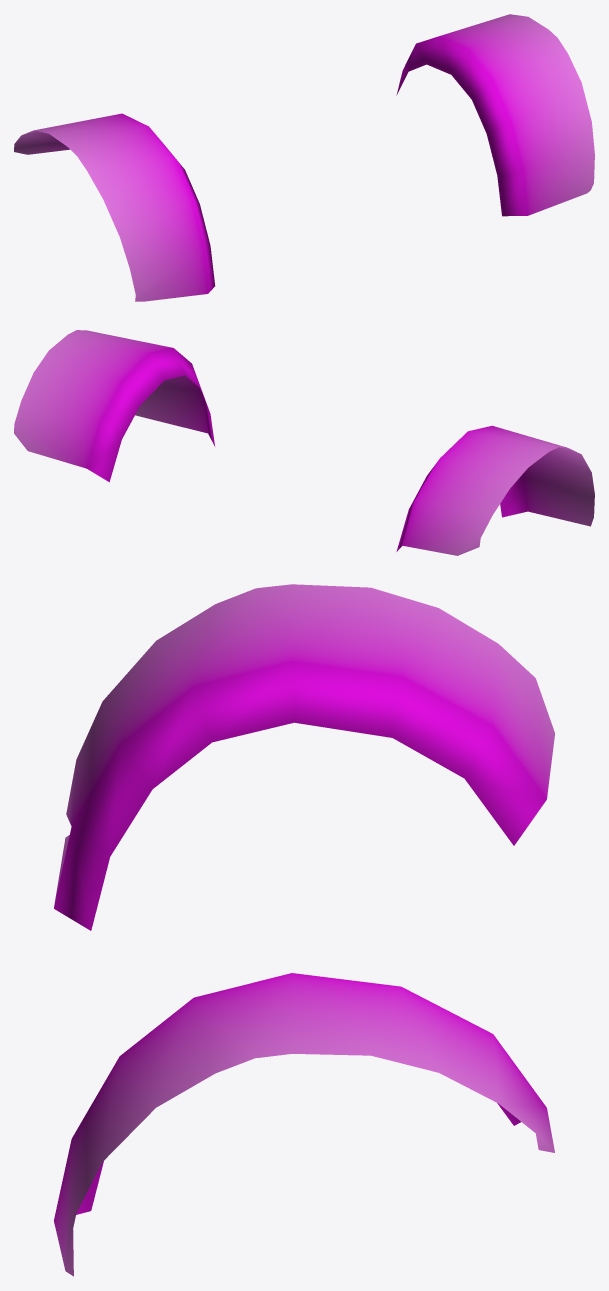
File: Car_Mini_CountrymanJCW_2017_FendersChassisR_SetB.fbx
3 renders of one model, top to bottom at view 1: azimuth 30°, elevation 25°; view 2: azimuth 150°, elevation 25°; view 3: azimuth 270°, elevation 25°, orthographic. The views are drawn at different scales.
Visible parts, largest first — view 1: FendersChassisR 6; view 2: FendersChassisR 6; view 3: FendersChassisR 6.
Boxes of the visible parts, x1,y1,x2,y2 form: FendersChassisR 6: (14, 14, 594, 301); FendersChassisR 6: (14, 330, 594, 555); FendersChassisR 6: (54, 584, 554, 1276).
Bounding box in the file's own units: 1.87 × 0.4704 × 0.8424.
